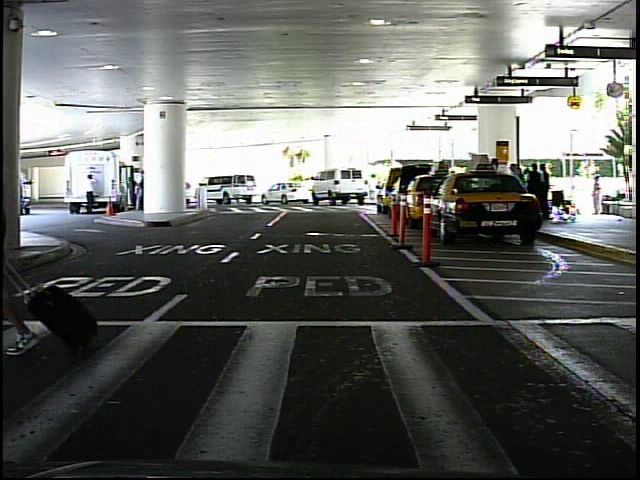person: (588, 172, 607, 218), (82, 171, 101, 216), (367, 170, 380, 202), (19, 111, 20, 357)
